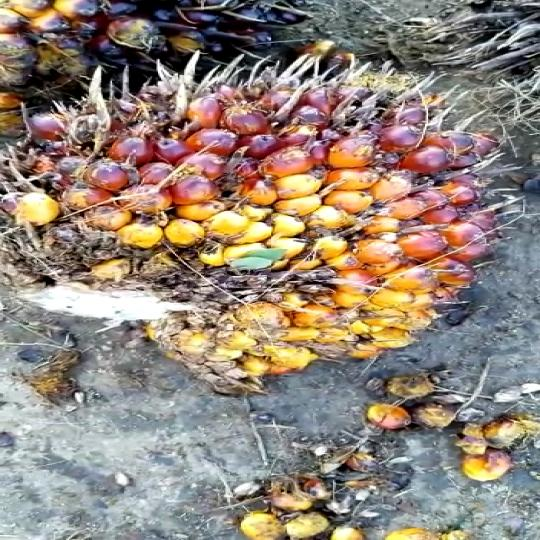masak: (0, 65, 520, 386)
